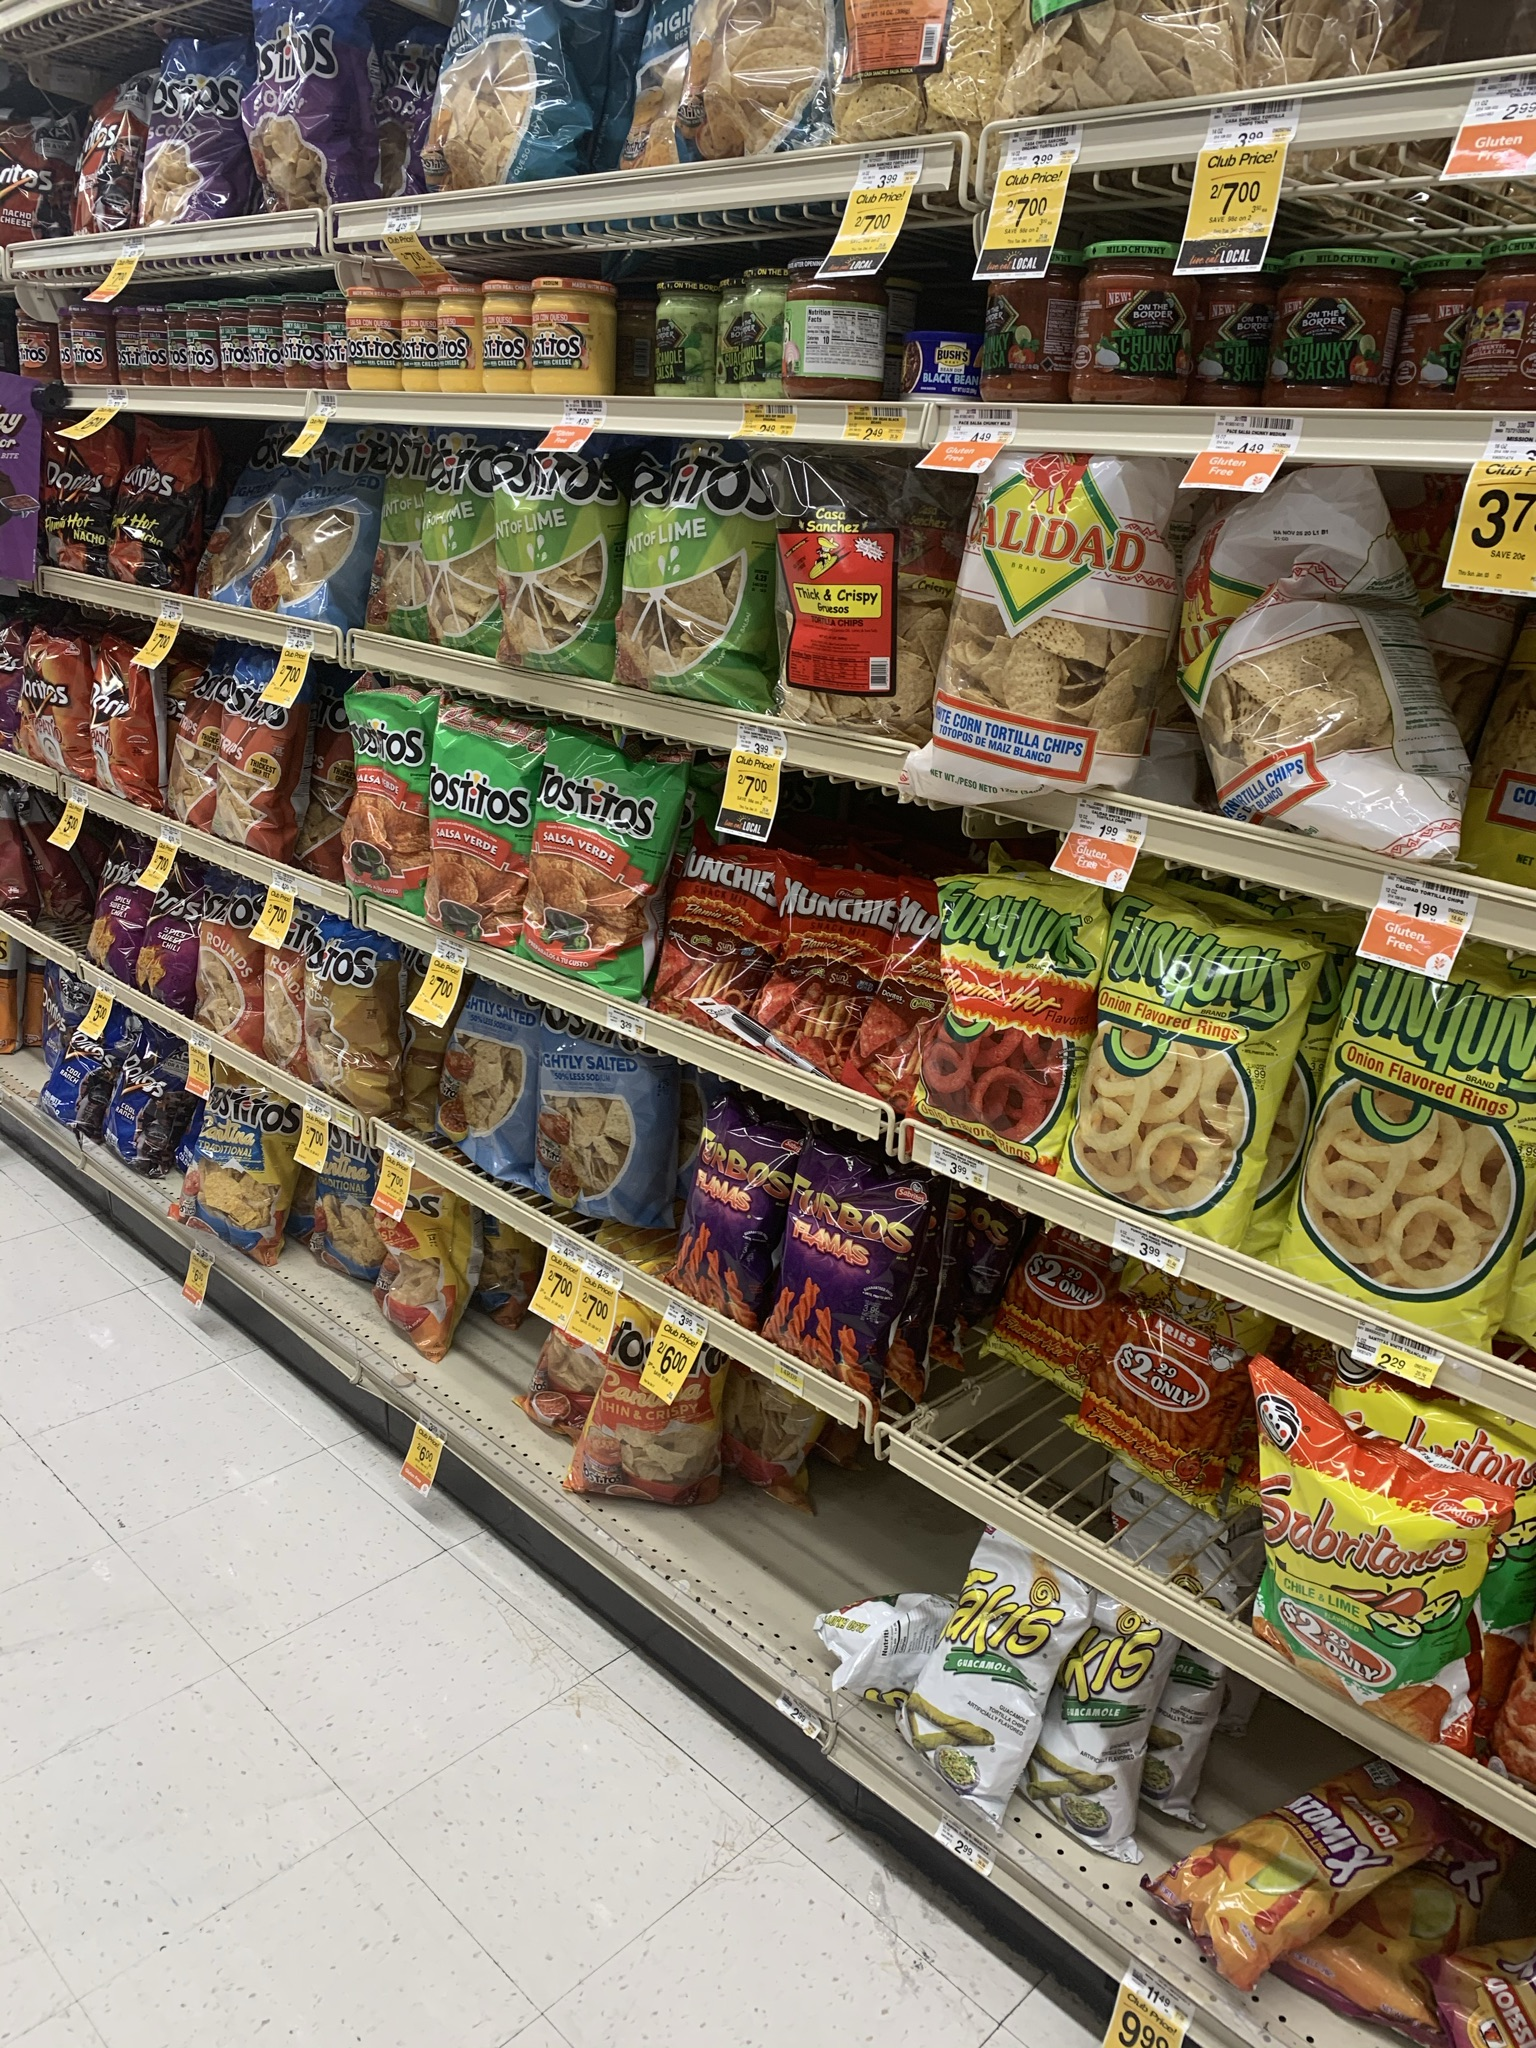chip: (1255, 948, 1536, 1285), (1105, 887, 1271, 1243), (760, 1180, 950, 1406), (624, 431, 779, 706), (739, 843, 887, 1076), (520, 734, 649, 1000), (497, 452, 611, 684), (660, 1092, 771, 1327), (163, 1085, 305, 1259), (265, 427, 394, 613), (215, 660, 323, 853), (369, 431, 458, 660), (426, 440, 511, 664), (105, 427, 218, 597), (879, 884, 965, 1106), (665, 830, 758, 1032), (297, 947, 402, 1118), (194, 884, 274, 1053), (81, 655, 171, 797), (2, 643, 105, 753), (50, 426, 98, 564)
